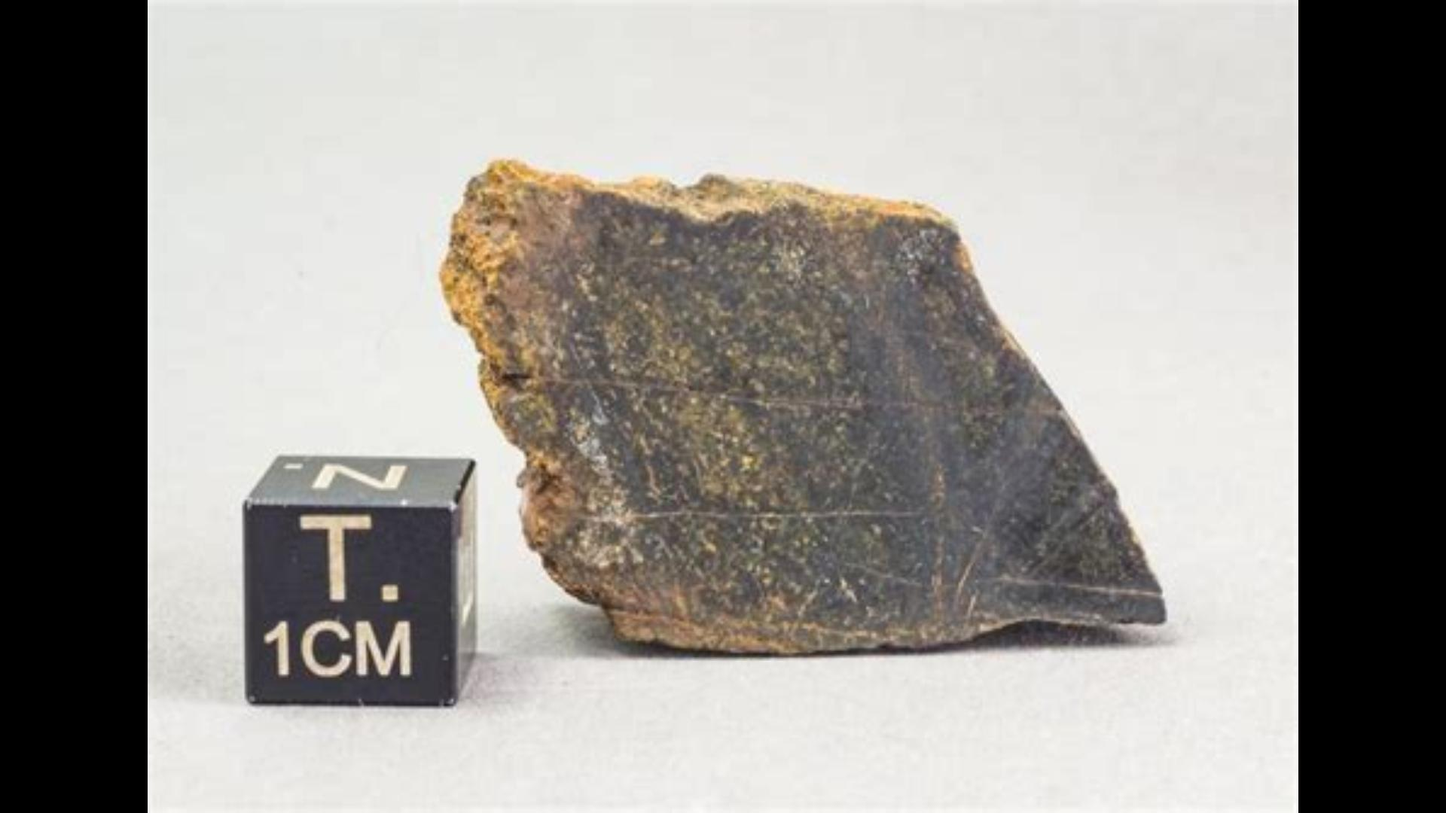rock: (444, 163, 1163, 650)
